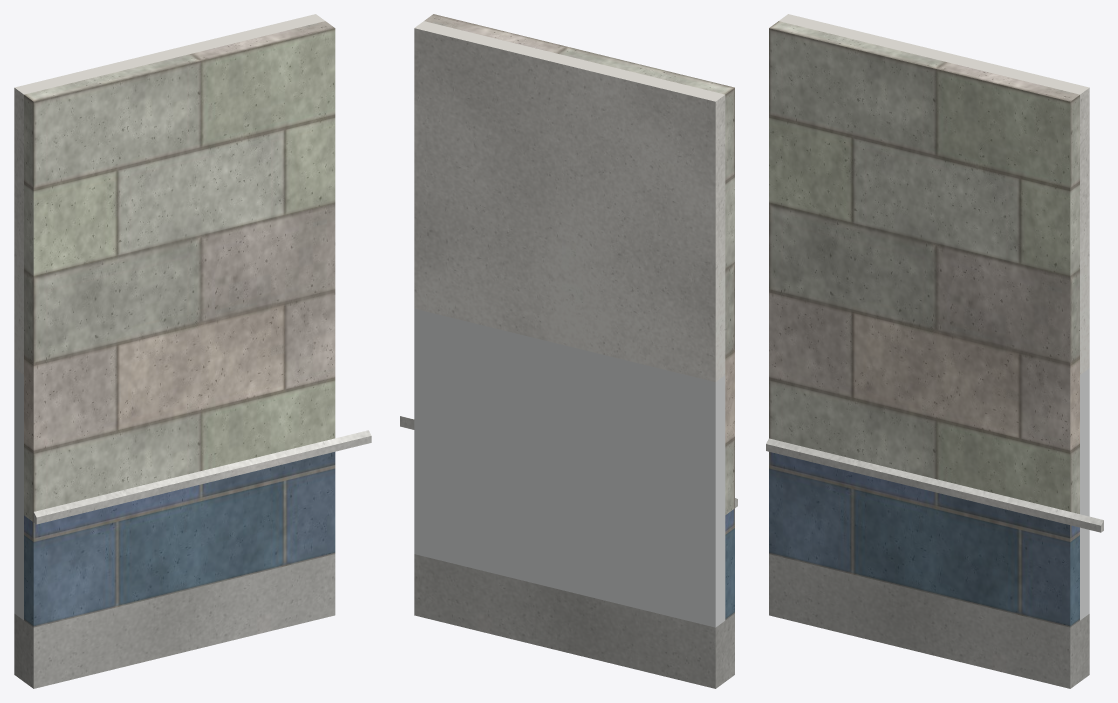
The model's file is r_plain_r_eb.glb.
The picture shows the model from 3 angles, left to right: view 1: azimuth 30°, elevation 25°; view 2: azimuth 150°, elevation 25°; view 3: azimuth 330°, elevation 25°; orthographic projection.
Parts seen in each view (by area): view 1: r_plain_r_eb_cmu, r_plain_r_eb_cmu2, r_plain_r_eb_concrete, r_plain_r_eb_plaster, r_plain_r_eb_coping, r_plain_r_eb_tile; view 2: r_plain_r_eb_plaster, r_plain_r_eb_tile, r_plain_r_eb_concrete, r_plain_r_eb_cmu, r_plain_r_eb_cmu2; view 3: r_plain_r_eb_cmu, r_plain_r_eb_cmu2, r_plain_r_eb_concrete, r_plain_r_eb_plaster, r_plain_r_eb_coping, r_plain_r_eb_tile.
Part boxes in pixels (x1,y1,x2,y2): r_plain_r_eb_cmu: [24, 21, 335, 521]; r_plain_r_eb_cmu2: [24, 452, 335, 627]; r_plain_r_eb_concrete: [14, 554, 335, 688]; r_plain_r_eb_plaster: [14, 14, 324, 374]; r_plain_r_eb_coping: [33, 430, 371, 524]; r_plain_r_eb_tile: [14, 368, 23, 620]; r_plain_r_eb_plaster: [414, 21, 725, 381]; r_plain_r_eb_tile: [414, 308, 725, 627]; r_plain_r_eb_concrete: [414, 554, 734, 688]; r_plain_r_eb_cmu: [424, 14, 734, 514]; r_plain_r_eb_cmu2: [725, 508, 734, 620]; r_plain_r_eb_cmu: [769, 21, 1079, 513]; r_plain_r_eb_cmu2: [769, 452, 1079, 627]; r_plain_r_eb_concrete: [769, 554, 1089, 688]; r_plain_r_eb_plaster: [779, 14, 1089, 374]; r_plain_r_eb_coping: [766, 438, 1103, 532]; r_plain_r_eb_tile: [1080, 368, 1089, 620].
Bounding box in the file's own units: 2 × 3.35 × 0.23.
Materials: 6 (5 with a texture image).
